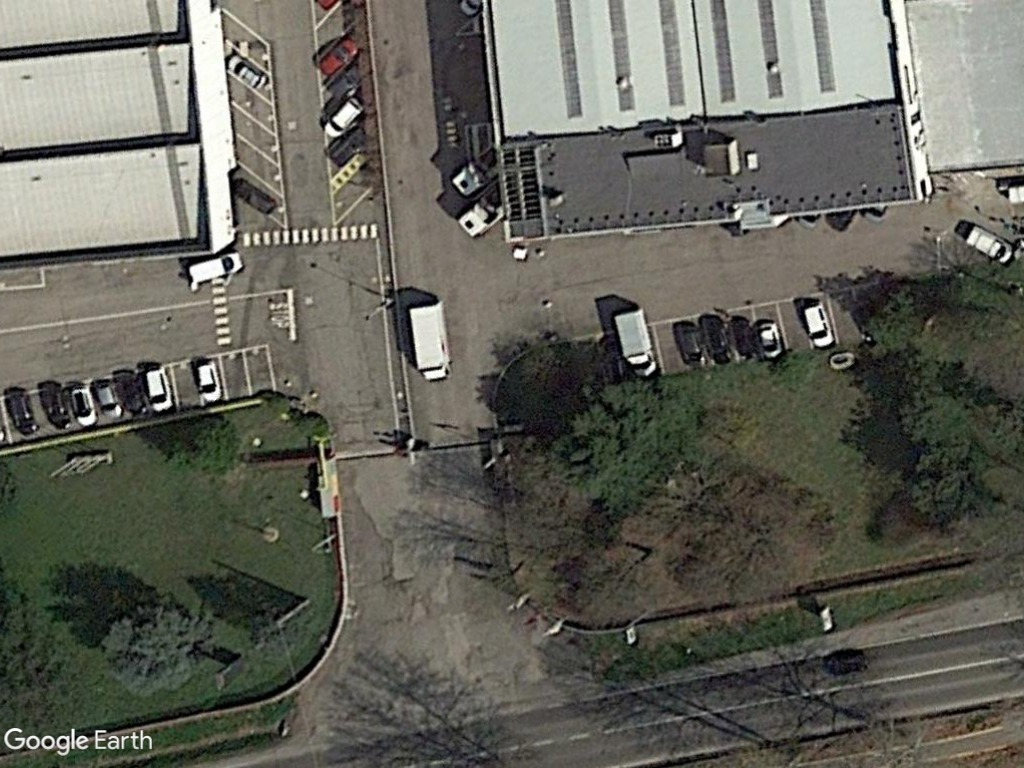car: (960, 222, 1018, 268), (320, 93, 370, 143), (317, 29, 362, 82), (798, 299, 838, 352), (190, 354, 228, 405), (141, 364, 178, 416), (753, 315, 788, 364), (66, 381, 98, 431), (94, 377, 127, 423)
truck: (406, 299, 458, 386), (612, 305, 661, 382)
van: (183, 248, 246, 289)
